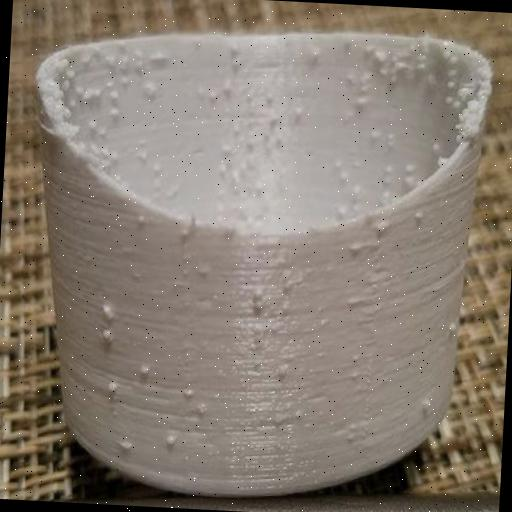blobs: (86, 288, 222, 470), (200, 72, 302, 192), (334, 46, 456, 132), (70, 38, 168, 140), (232, 266, 308, 334), (336, 238, 392, 312), (407, 393, 442, 419)
